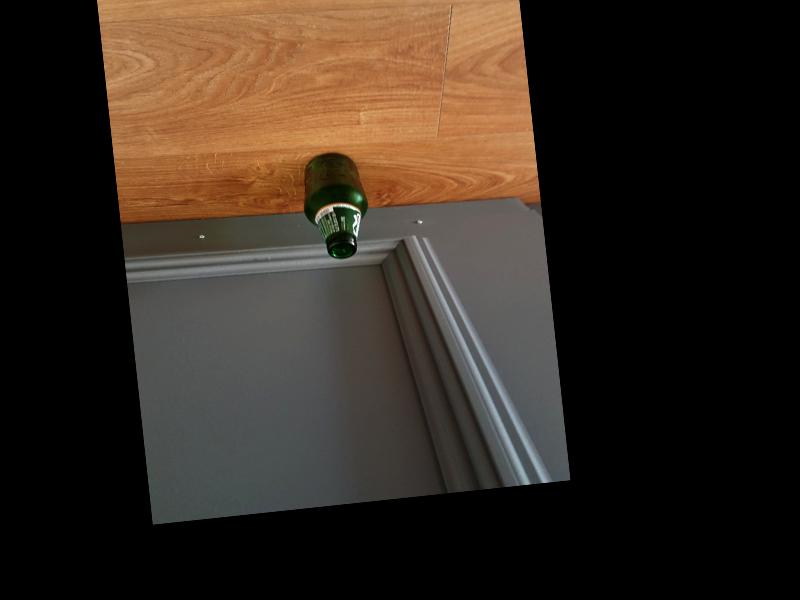Beer: (298, 149, 373, 261)
